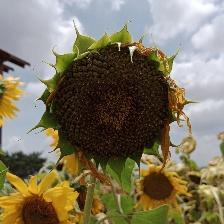sunflower: (29, 20, 201, 194)
